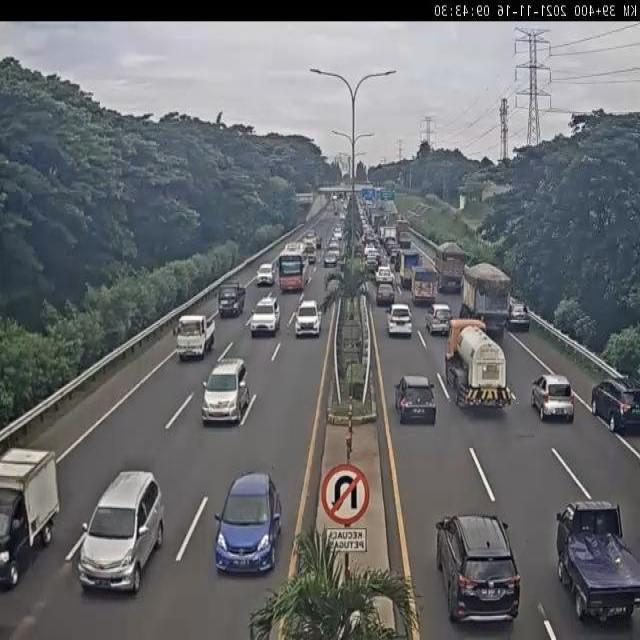Bus: (277, 241, 307, 293)
Car: (80, 468, 166, 598), (434, 513, 522, 625), (212, 474, 281, 572), (199, 358, 251, 422), (590, 372, 640, 433), (396, 374, 436, 424), (532, 373, 574, 419), (249, 301, 280, 337), (386, 302, 412, 338), (295, 302, 322, 336), (425, 304, 453, 333), (508, 301, 531, 329), (376, 282, 395, 304), (257, 265, 275, 288)
Truck: (555, 496, 640, 616), (0, 446, 60, 586), (444, 317, 511, 416), (458, 260, 510, 335), (432, 239, 474, 291), (173, 314, 217, 362), (216, 279, 246, 319), (396, 244, 420, 286)
